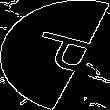P_E: (11, 29, 99, 81)
